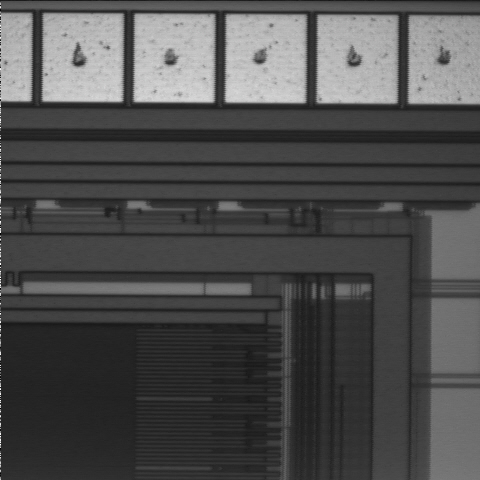pad: (134, 15, 214, 102), (226, 15, 305, 103), (43, 15, 122, 102), (318, 17, 396, 103)
